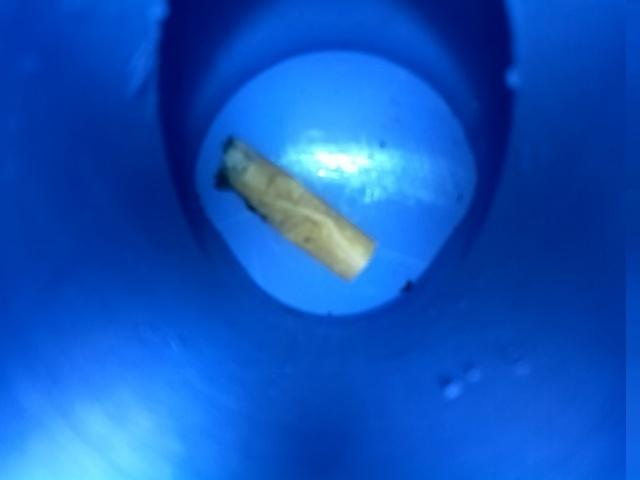megot: (194, 134, 395, 287)
